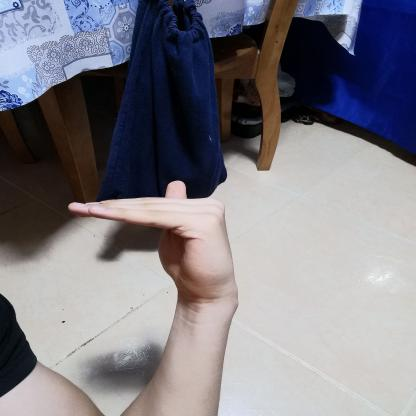KHAA: (53, 175, 254, 305)
